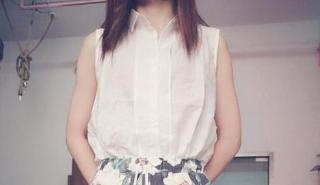vest dress: (87, 9, 219, 167)
